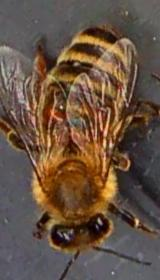varroa_mite: (37, 100, 70, 126)
